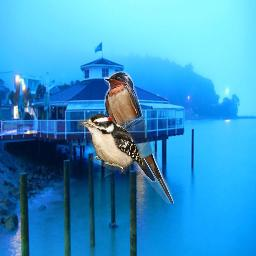Swallow: (104, 71, 174, 204)
Woodpecker: (77, 114, 145, 174)
